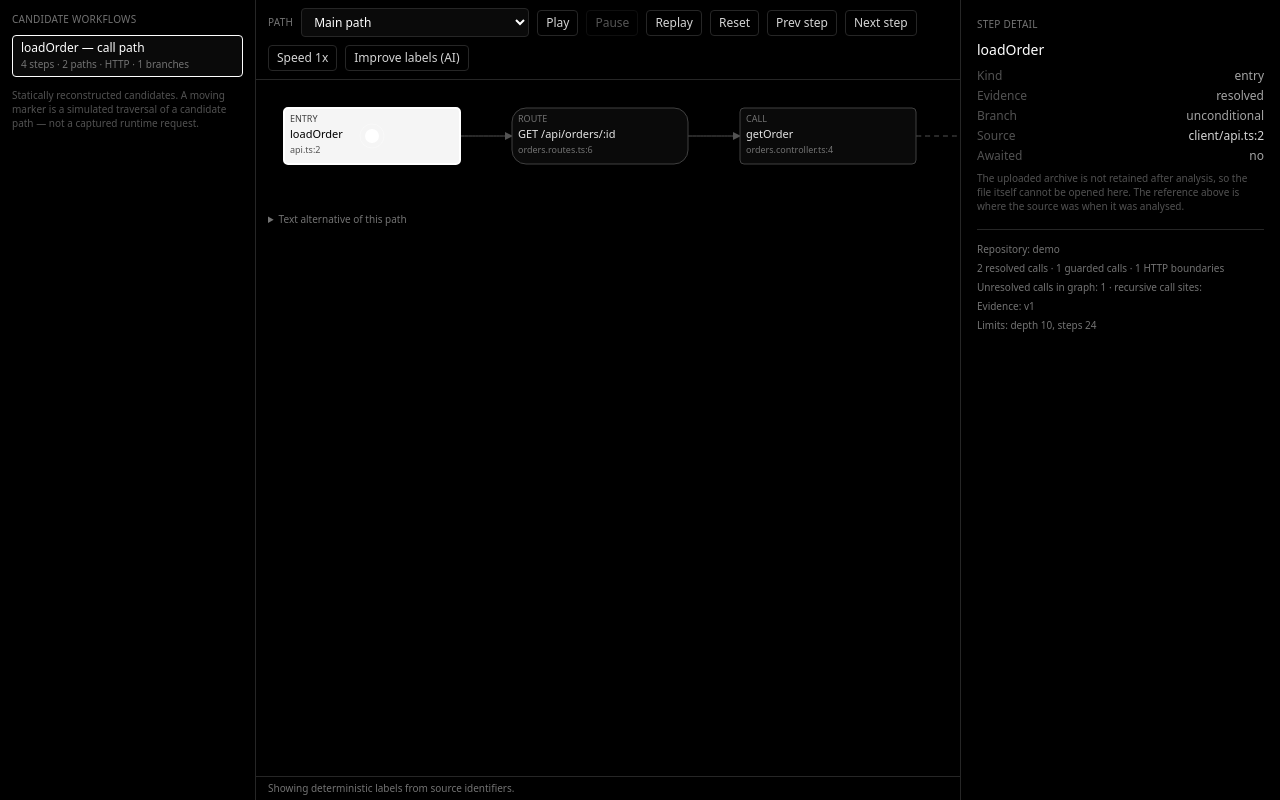
Test case: CoremationView › explains refinement unavailability and keeps deterministic labels
Expected: the text "loadOrder — call path" is shown, [21,39,145,56]
Click the button "Improve labels (AI)".
click(407, 58)  # box [345,45,469,71]
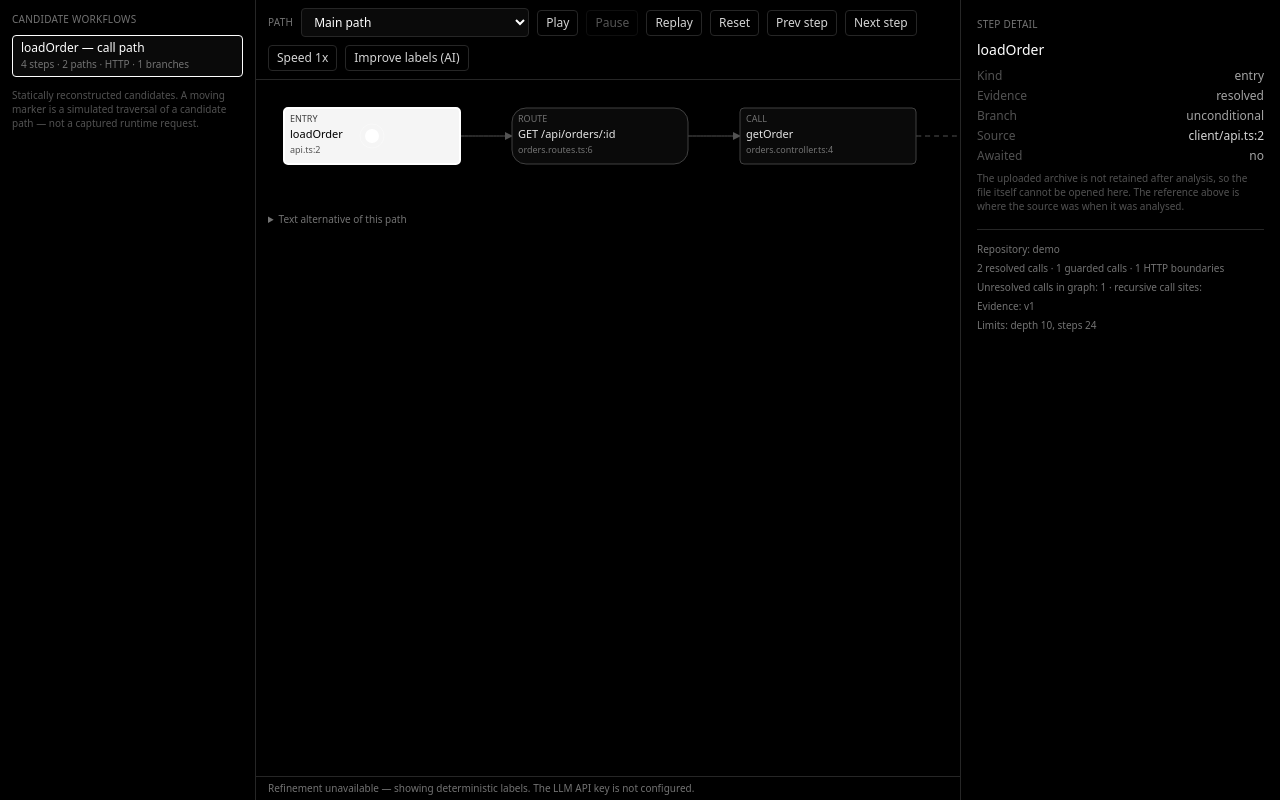
Expected: the text "loadOrder" is shown, [290,126,343,141]
Now the text "Refinement unavailable — showing deterministic labels" is shown, box [268,781,694,795]
